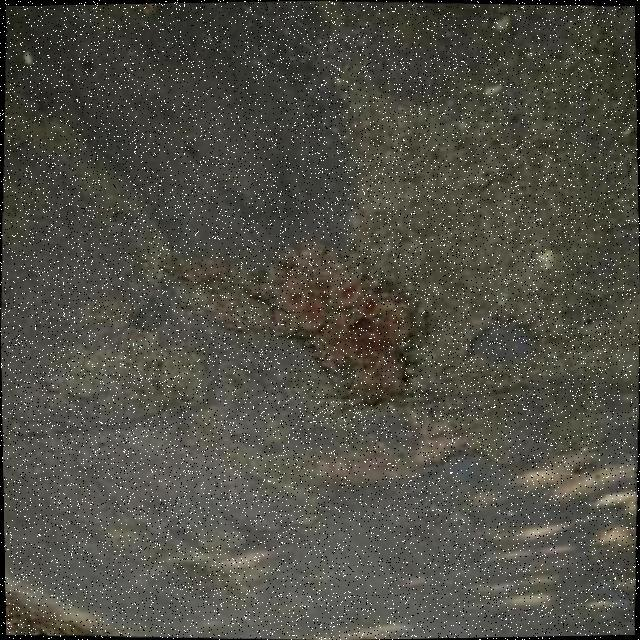Pothole: (180, 247, 418, 405)
